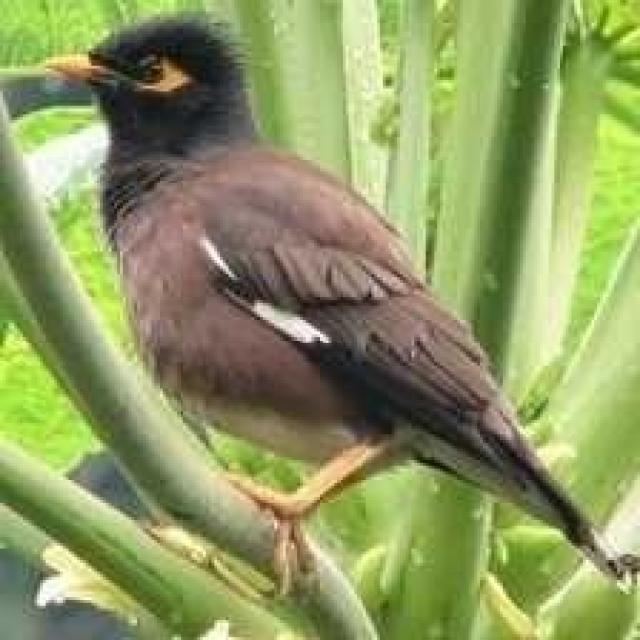bird: (37, 15, 638, 602)
